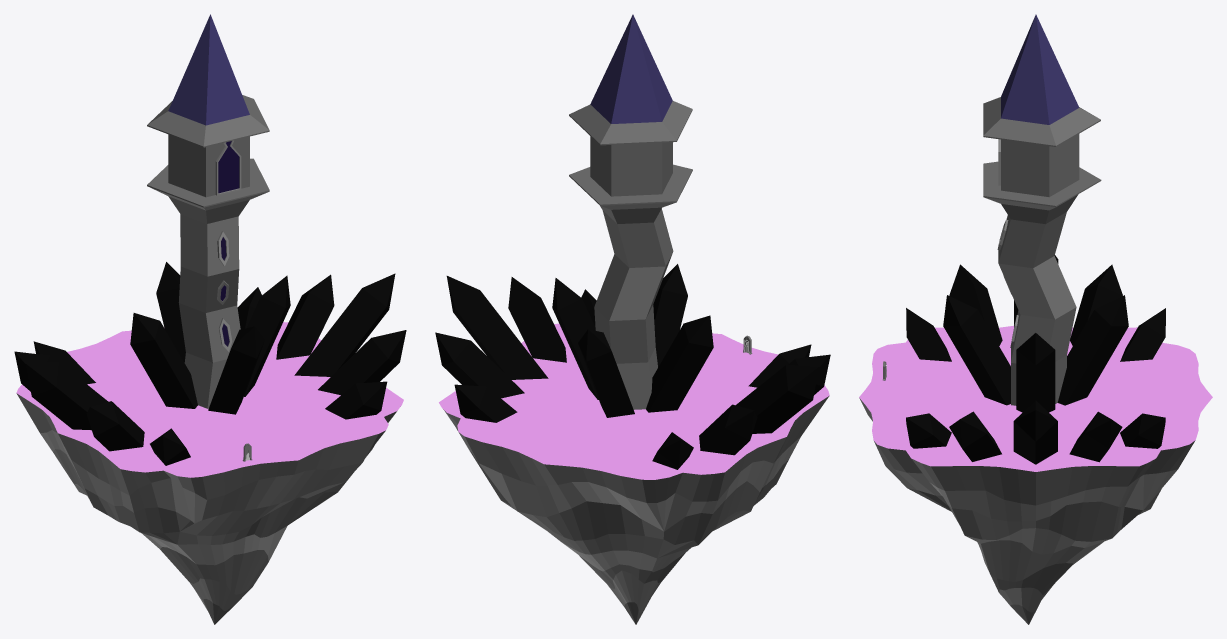
File: mage_island.fbx
3 renders of one model, left to right at view 1: azimuth 30°, elevation 25°; view 2: azimuth 150°, elevation 25°; view 3: azimuth 270°, elevation 25°, orthographic.
Parts seen in each view (by area): view 1: crystals, rocks, tower, floor, door; view 2: crystals, rocks, tower, floor; view 3: crystals, floor, rocks, tower.
Part boxes in pixels (box(x1,y1,x2,y2)): crystals: box(14, 262, 406, 465); rocks: box(16, 393, 396, 624); tower: box(147, 14, 269, 408); floor: box(16, 322, 403, 477); door: box(215, 140, 241, 195); crystals: box(435, 264, 830, 469); rocks: box(443, 396, 829, 624); tower: box(569, 14, 692, 409); floor: box(439, 323, 829, 479); crystals: box(906, 255, 1165, 464); floor: box(859, 325, 1212, 471); rocks: box(859, 398, 1195, 624); tower: box(983, 14, 1101, 405).
Size of the model in its own units: 14220 by 22362 by 11747.
